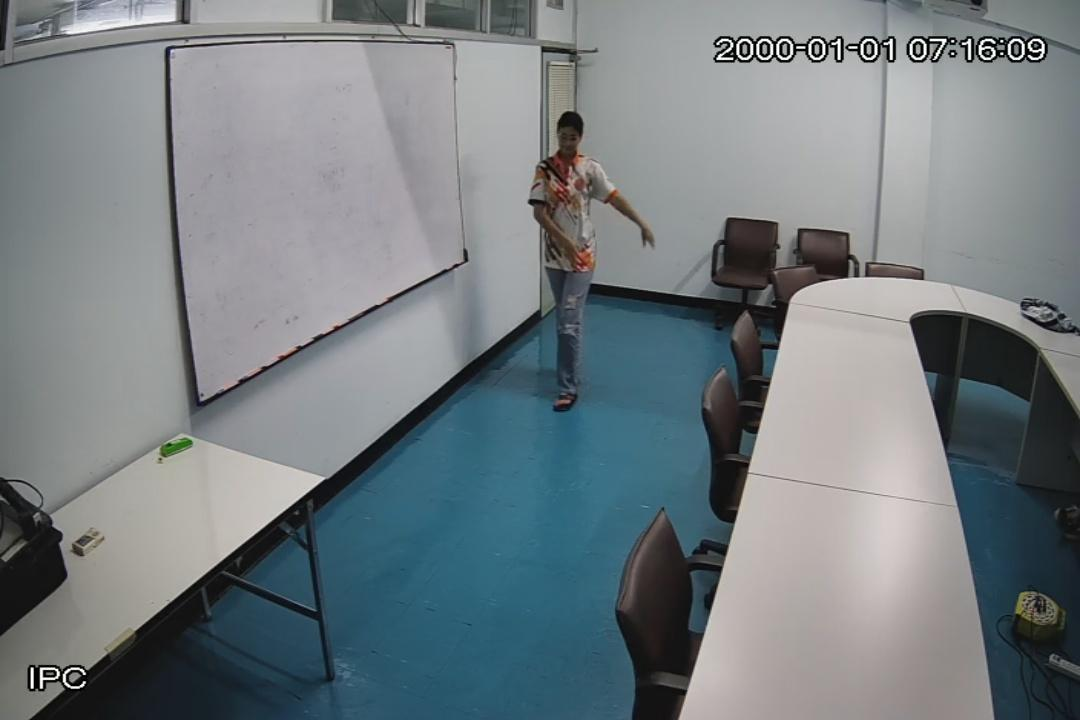normal: (530, 104, 657, 418)
